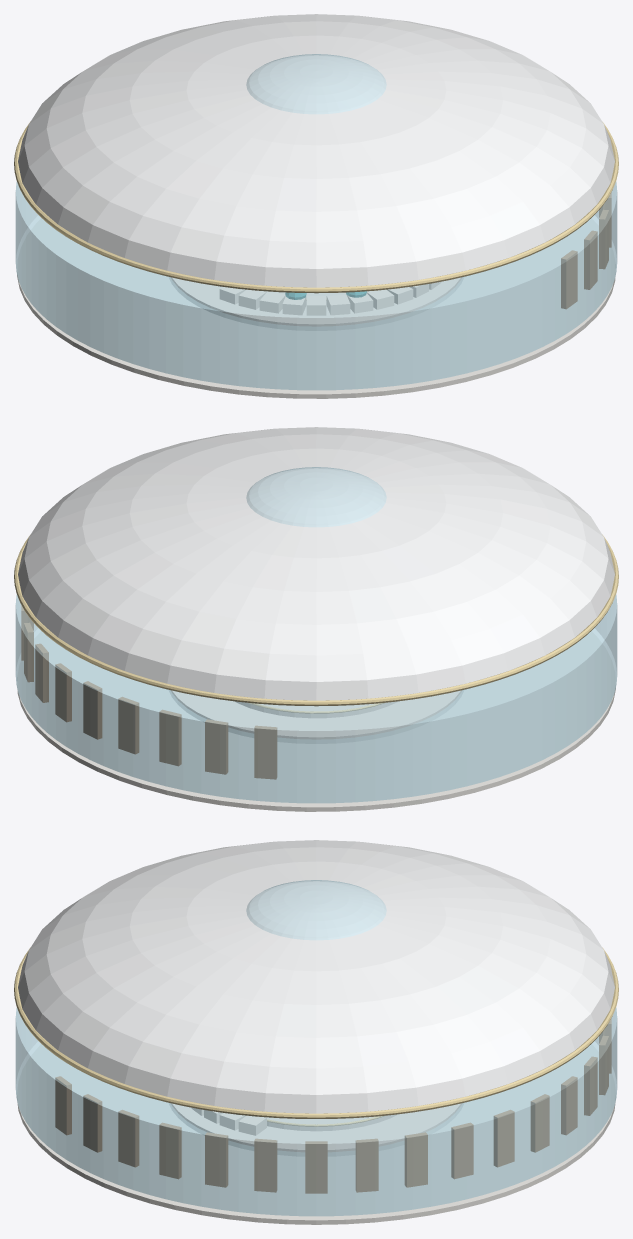
File: reef-interior.glb
3 renders of one model, top to bottom at view 1: azimuth 30°, elevation 25°; view 2: azimuth 150°, elevation 25°; view 3: azimuth 270°, elevation 25°, orthographic.
Parts seen in each view (by area): view 1: Sphere.005, Cylinder.003, Cylinder, Torus.176, Cube.001, Cube.015; view 2: Sphere.005, Cylinder.003, Cylinder, Cube.015, Torus.176; view 3: Sphere.005, Cylinder.003, Cylinder, Cube.015, Torus.176, Cube.001.
Part boxes in pixels (x1=…): Sphere.005: x1=18, y1=14, x2=614, y2=287; Cylinder.003: x1=15, y1=54, x2=617, y2=390; Cylinder: x1=17, y1=218, x2=615, y2=398; Torus.176: x1=14, y1=121, x2=618, y2=299; Cube.001: x1=219, y1=282, x2=441, y2=315; Cube.015: x1=561, y1=192, x2=611, y2=309; Sphere.005: x1=18, y1=427, x2=614, y2=700; Cylinder.003: x1=15, y1=467, x2=617, y2=803; Cylinder: x1=17, y1=631, x2=615, y2=811; Cube.015: x1=21, y1=605, x2=277, y2=779; Torus.176: x1=14, y1=534, x2=618, y2=713; Sphere.005: x1=18, y1=840, x2=614, y2=1113; Cylinder.003: x1=15, y1=880, x2=617, y2=1216; Cylinder: x1=17, y1=1044, x2=615, y2=1224; Cube.015: x1=55, y1=1018, x2=611, y2=1193; Torus.176: x1=14, y1=947, x2=618, y2=1126; Cube.001: x1=191, y1=1108, x2=266, y2=1135.
Bounding box in the file's own units: 24.24 × 8.9 × 24.24.
